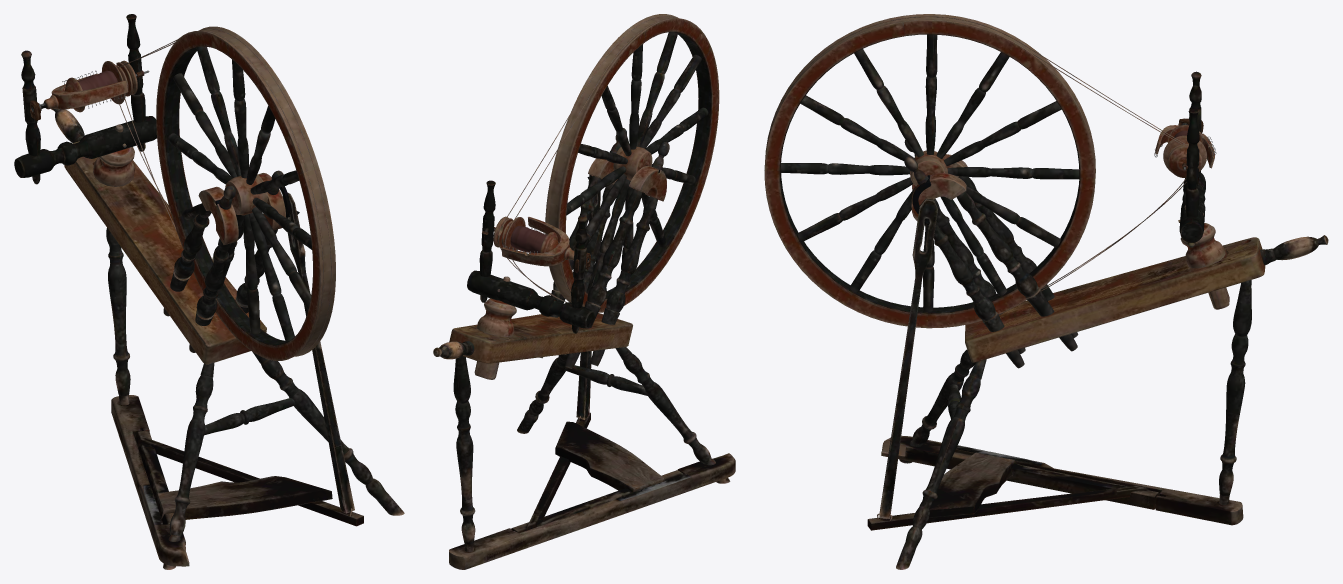
Rendered from spinning_wheel_01.glb.
3 renders of one model, left to right at view 1: azimuth 30°, elevation 25°; view 2: azimuth 150°, elevation 25°; view 3: azimuth 270°, elevation 25°, orthographic. The views are drawn at different scales.
Visible parts, largest first — view 1: spinning_wheel_01; view 2: spinning_wheel_01; view 3: spinning_wheel_01.
Boxes of the visible parts, x1=… form: spinning_wheel_01: x1=14, y1=14, x2=404, y2=569; spinning_wheel_01: x1=433, y1=14, x2=735, y2=569; spinning_wheel_01: x1=764, y1=14, x2=1328, y2=569.
Bounding box in the file's own units: 0.4893 × 0.9662 × 1.02.
1 material, 1 textured.
